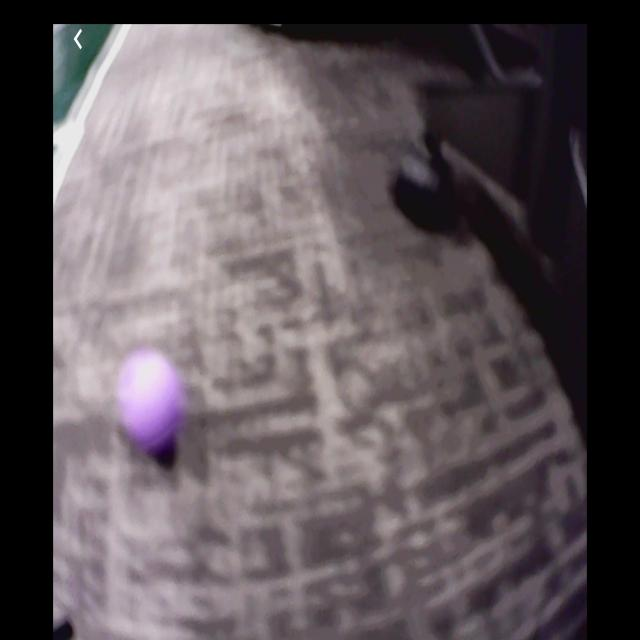ball: (115, 351, 185, 457)
